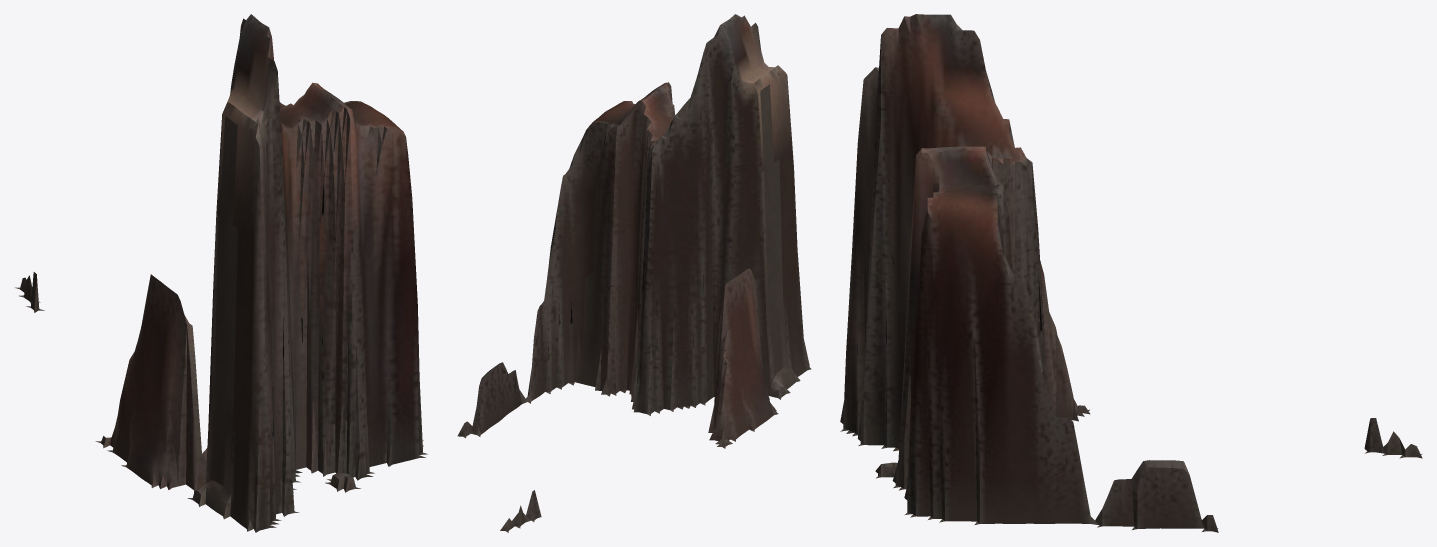
The model's file is fulgoran-ruin-stonehenge.glb.
The picture shows the model from 3 angles, left to right: view 1: azimuth 30°, elevation 25°; view 2: azimuth 150°, elevation 25°; view 3: azimuth 270°, elevation 25°; orthographic projection. The views are drawn at different scales.
Parts seen in each view (by area): view 1: body; view 2: body; view 3: body.
Boxes of the visible parts, x1,y1,x2,y2 form: body: (15, 14, 427, 532); body: (457, 14, 811, 532); body: (840, 14, 1422, 532).
Size of the model in its own units: 3.2 by 5.12 by 6.25.
Materials: 1 (1 with a texture image).
